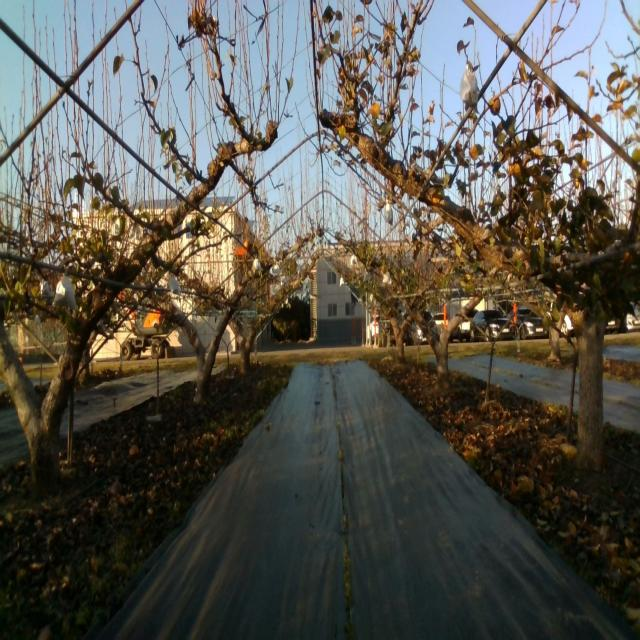pearbags: (52, 275, 78, 313), (461, 62, 479, 115), (169, 275, 181, 297)
